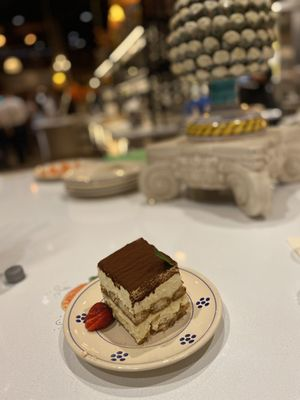sushi: (58, 159, 143, 199)
